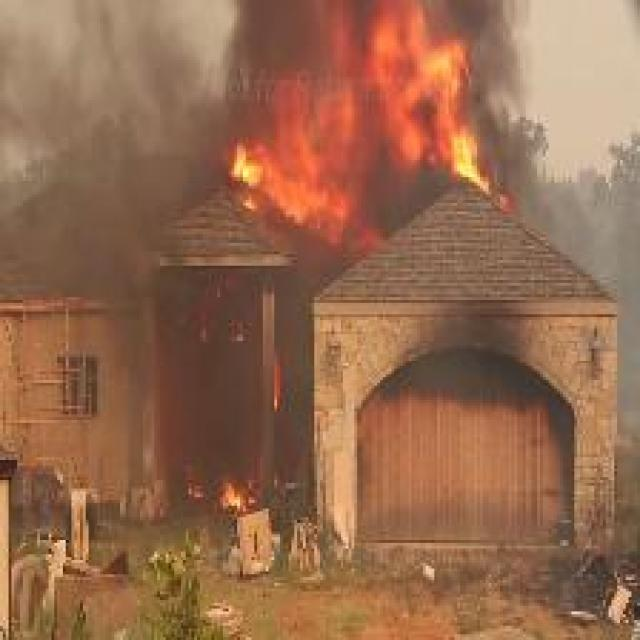Fire: (228, 0, 525, 251)
